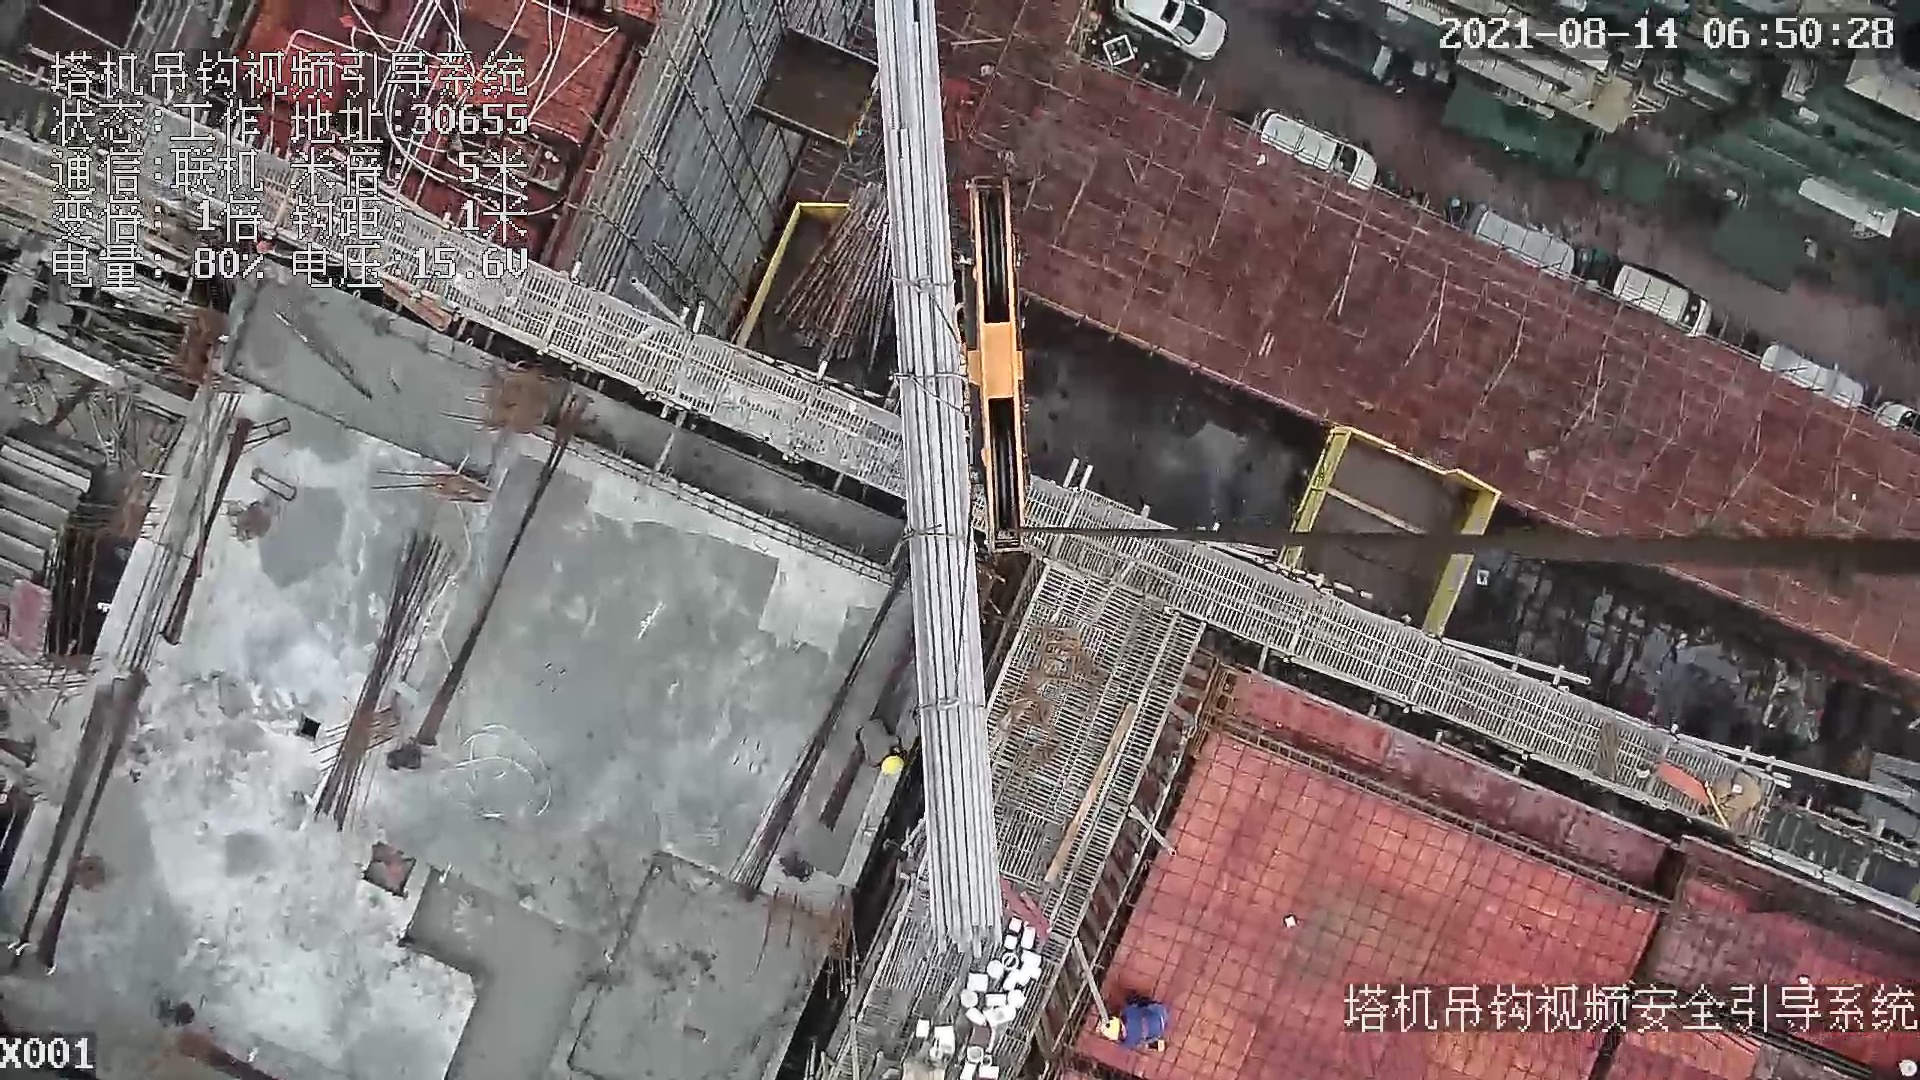helmet: (1097, 1010, 1126, 1049), (878, 749, 908, 778)
hook: (942, 176, 1038, 556)
person: (1087, 990, 1181, 1051), (851, 715, 913, 788)
